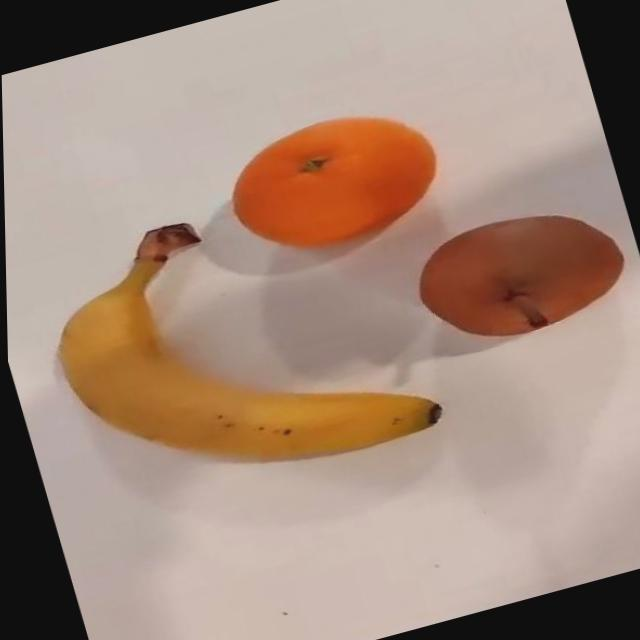Banana: (28, 169, 448, 520)
Orange: (215, 96, 454, 270)
